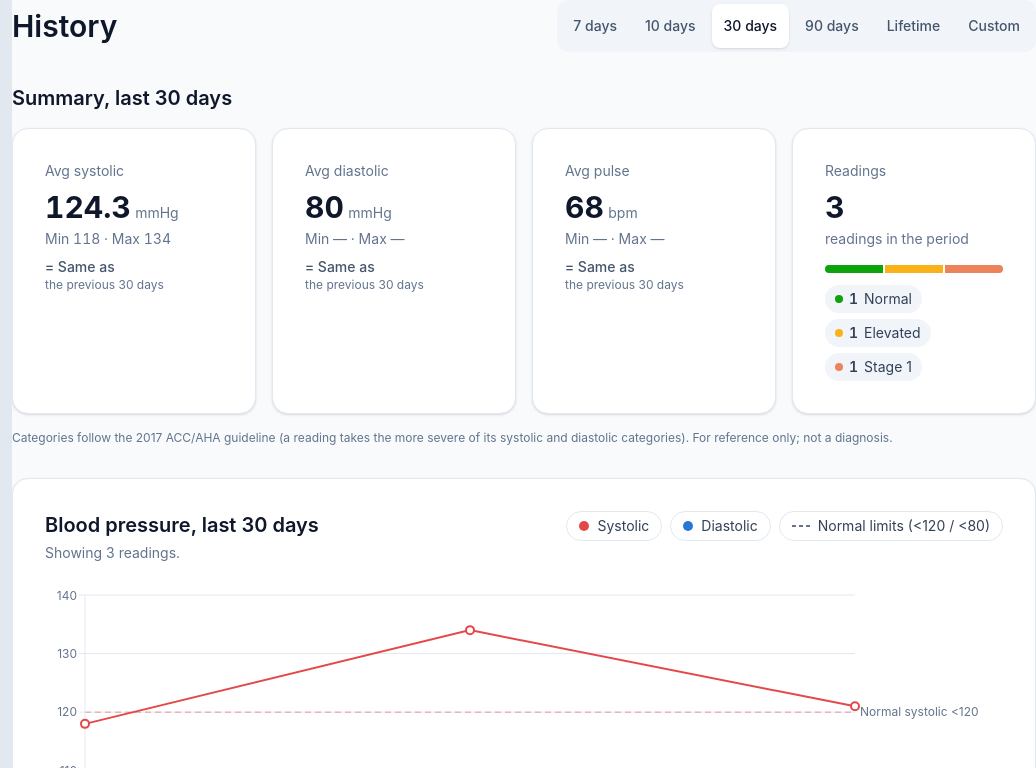
Test: History › period filter › lifetime queries readings and stats without a period
Click the button "Lifetime".
click(914, 26)  # box [875,4,952,48]
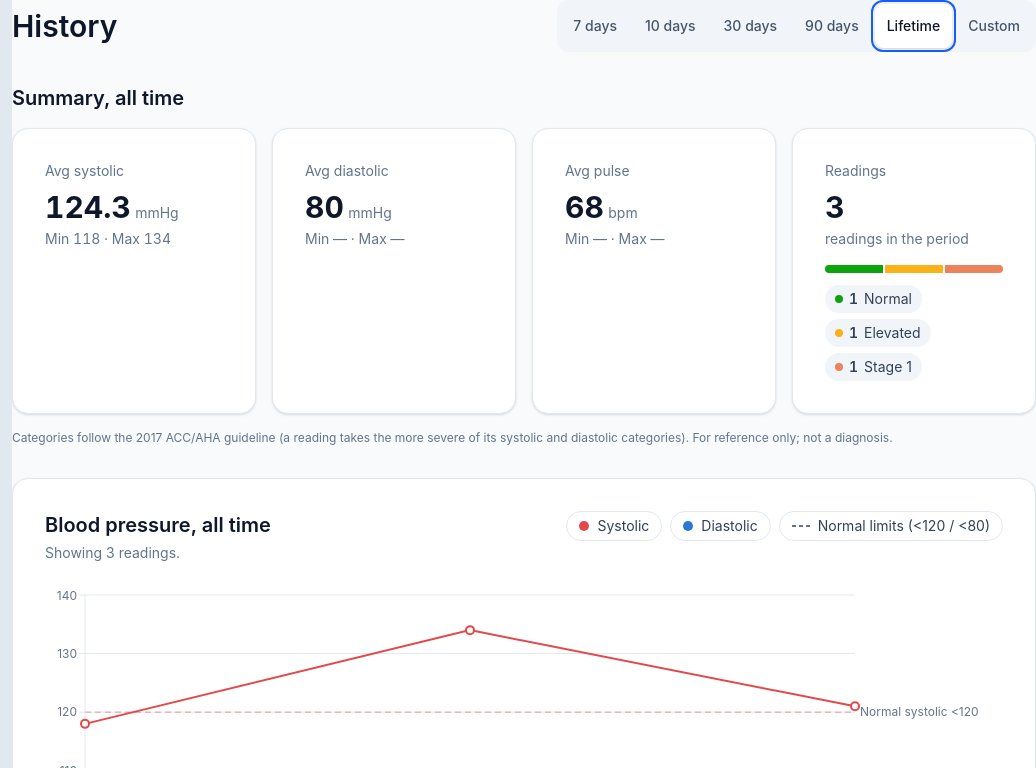
Expected: the element "Summary, all time" is shown, [12,84,1035,446]
